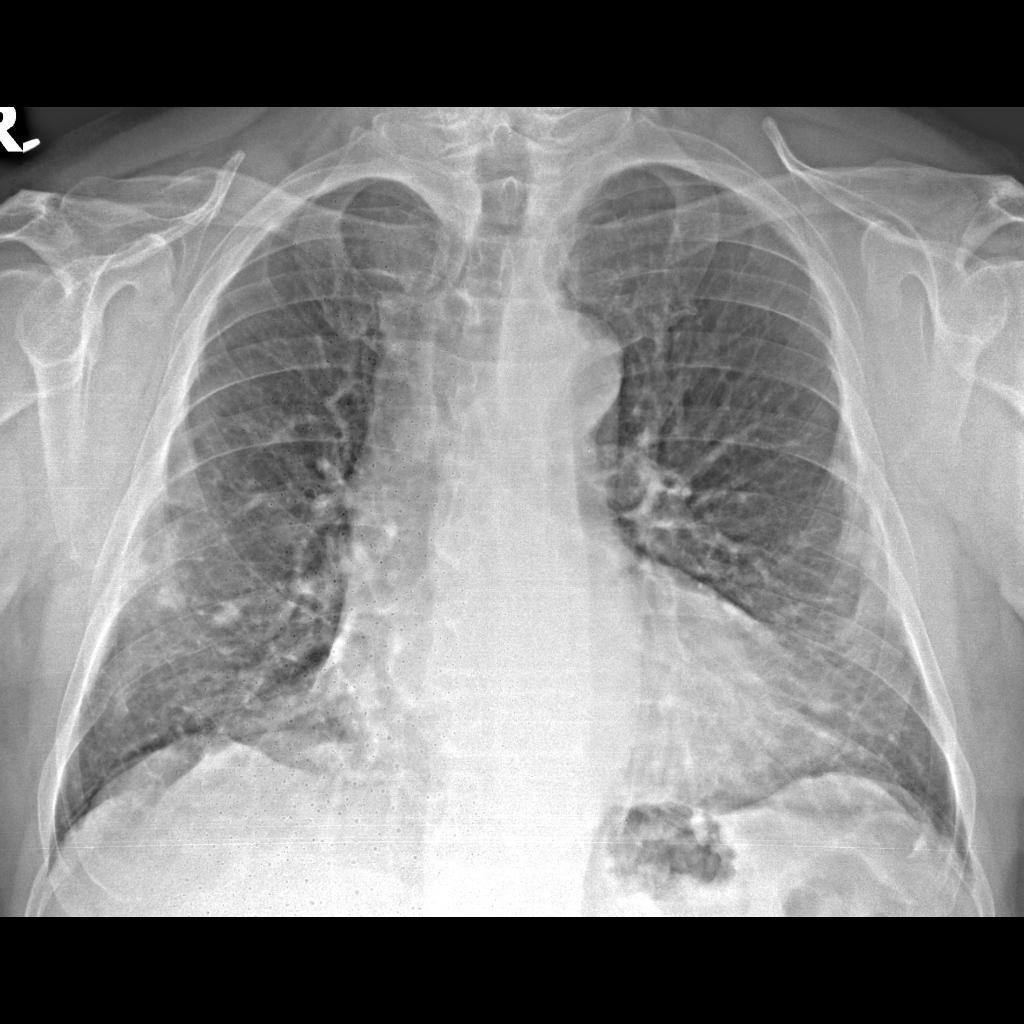Nodule: (151, 530, 198, 619), (307, 725, 355, 792), (211, 595, 246, 644)
